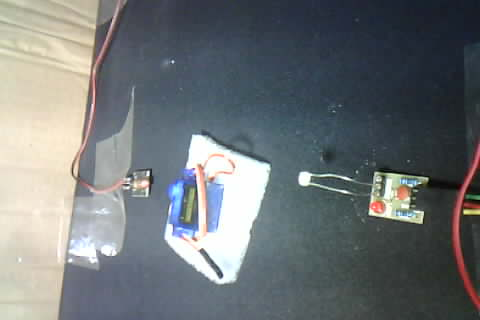motor: (162, 132, 263, 282)
